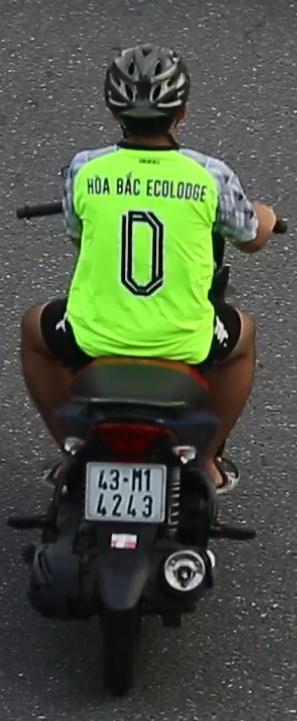LP: (80, 454, 171, 526)
helmet: (104, 37, 195, 156)
